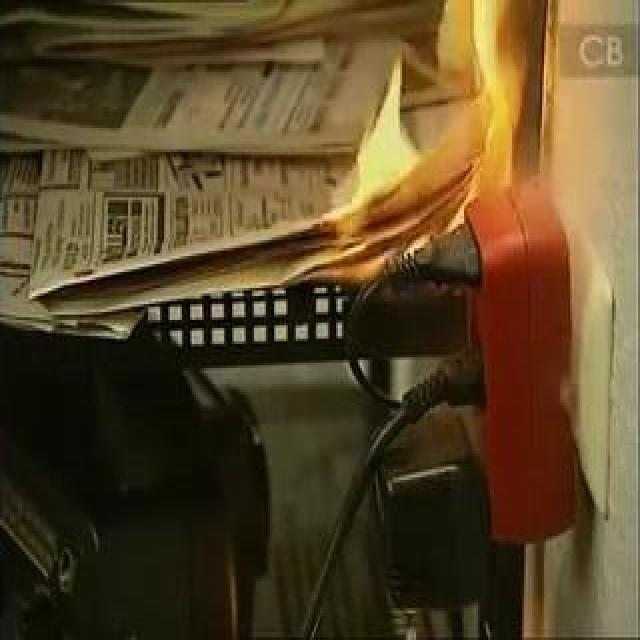Fire: (226, 2, 524, 314)
